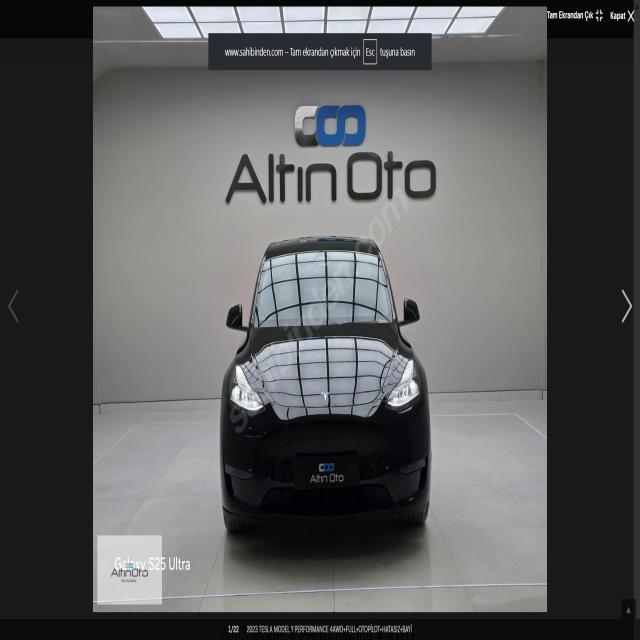tesla: (312, 375, 339, 413)
